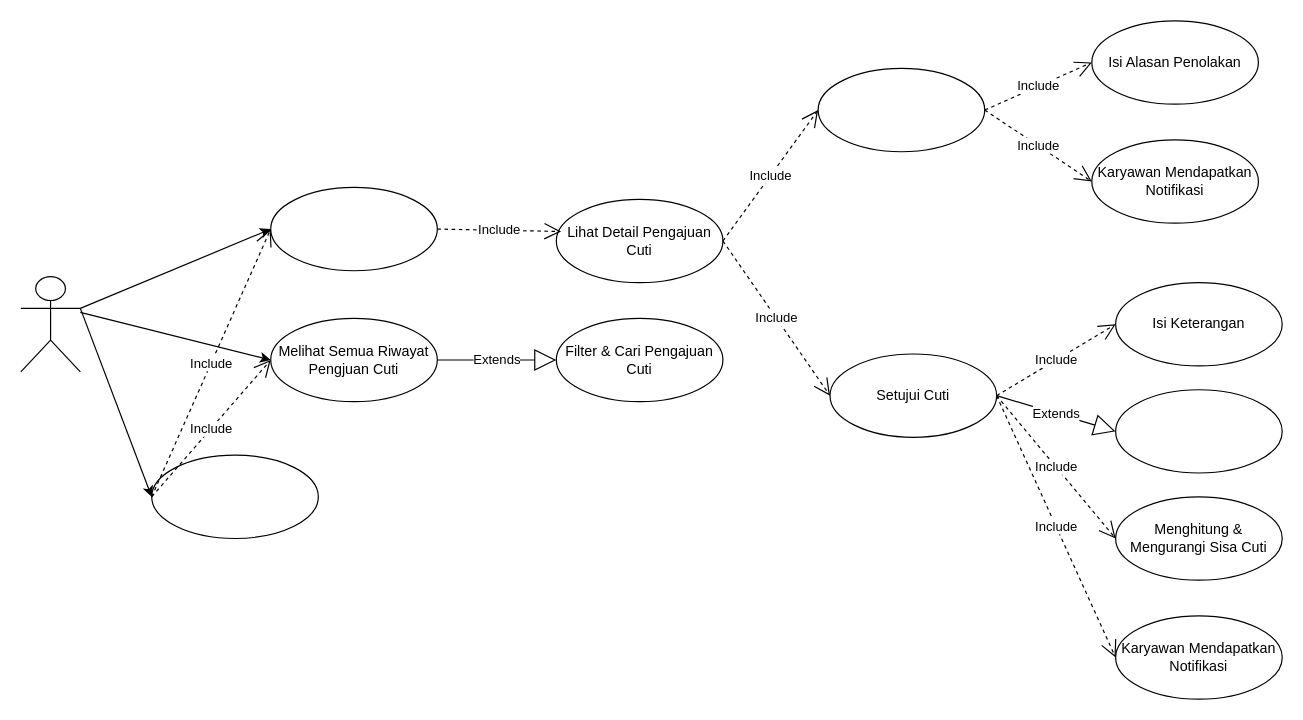
The diagram is 1303 pixels wide and 720 high, and some of its shapes have lost their labels. The shapes that lost their labels are listed below. From the top down, each one's centre as x and y in pixels, then its label:
point 901,109: Tolak Cuti
point 353,228: Melihat Daftar Pengajuan Cuti "Pending"
point 50,323: Atasan
point 1198,431: Atur Tanggal Pengajuan Cuti
point 234,496: Login
